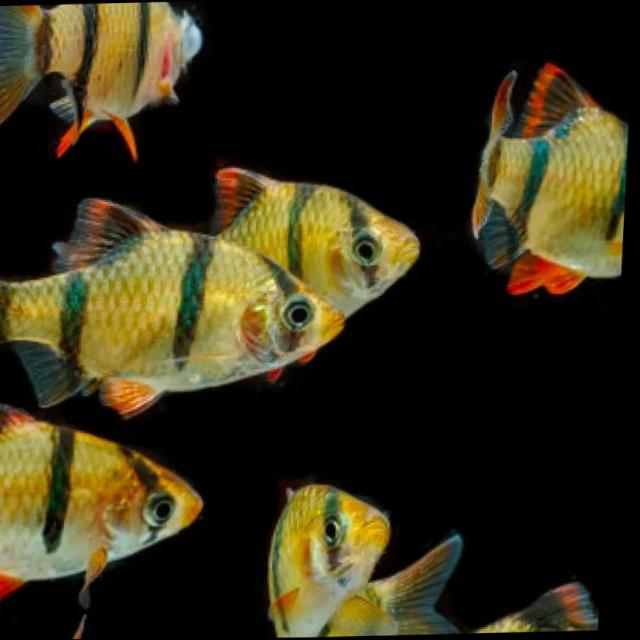fish: (48, 152, 441, 426), (0, 182, 354, 415), (0, 385, 226, 613), (458, 48, 637, 311), (258, 465, 481, 638), (0, 1, 210, 164)
